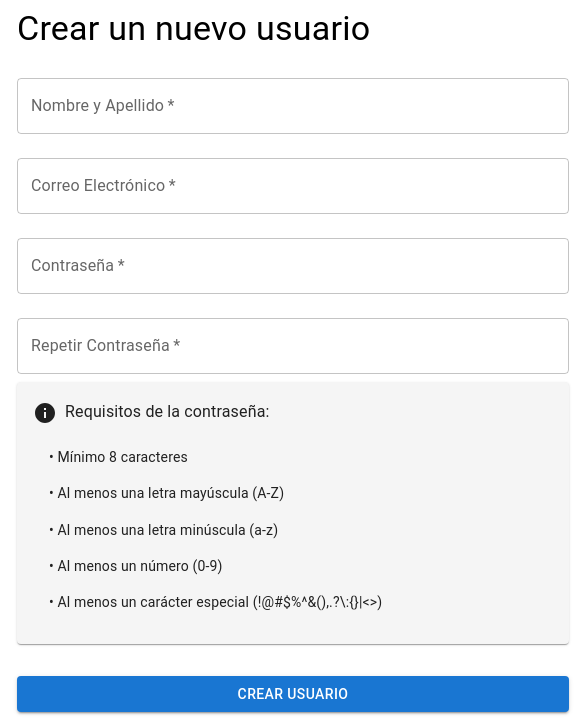
it: Register Component › debería mostrar un mensaje de error al fallar el registro
Type "Gonzalo Garbuio" into the field labelled "Nombre y Apellido *" at [293, 106], box [17,78,569,134]
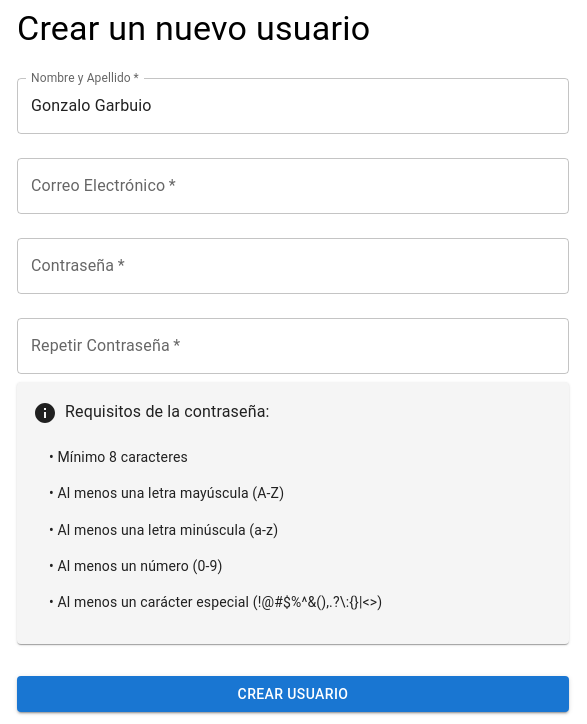
Type "test@test.com" into the field labelled "Correo Electrónico *" at [293, 186], box [17,158,569,214]
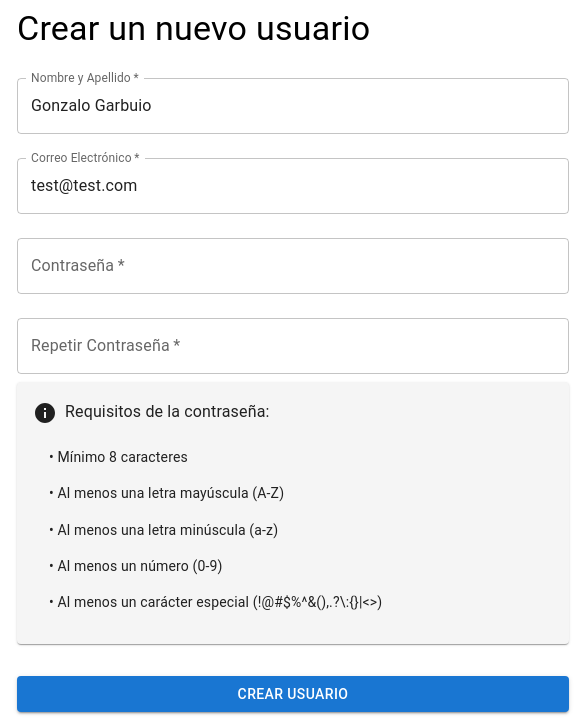
Type "password123" into the password field labelled "Contraseña *" at [293, 266], box [17,238,569,294]
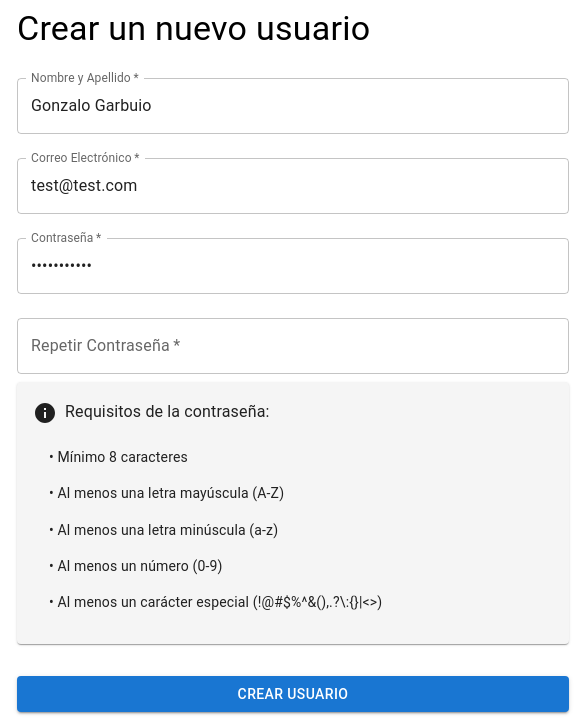
Type "password123" into the password field labelled "Repetir Contraseña *" at [293, 346], box [17,318,569,374]
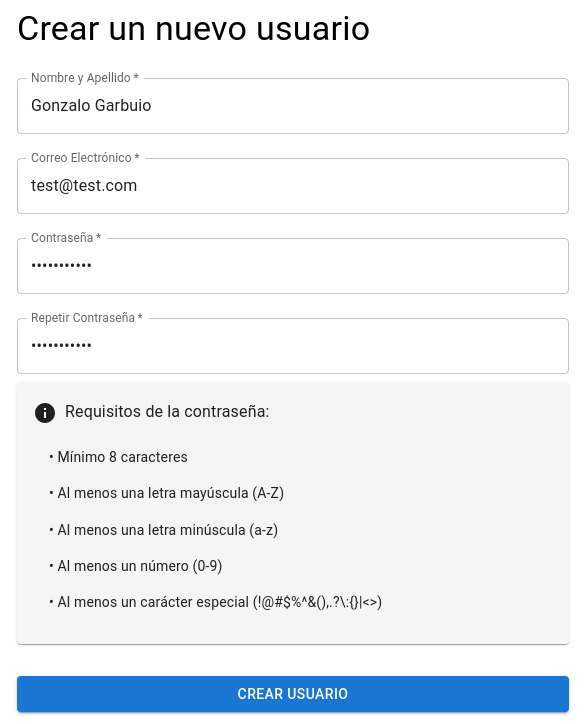
Click the button "Crear Usuario" at [293, 694], box [17,676,569,712]
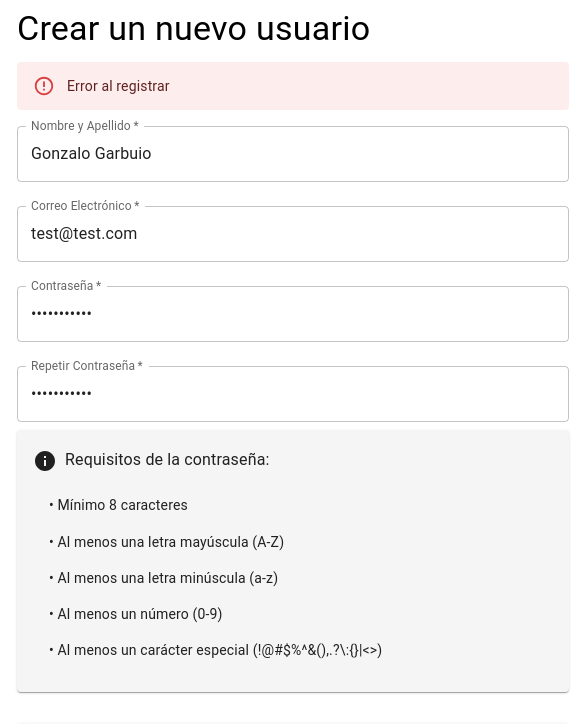
Expected: the text "Error al registrar" is shown, [67,78,170,94]
